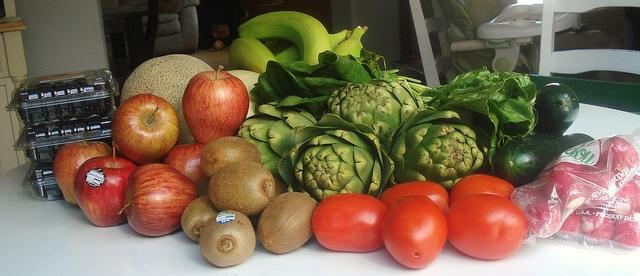apple: (118, 164, 198, 236), (73, 141, 138, 228), (182, 65, 250, 145), (111, 94, 180, 164), (52, 130, 112, 206), (160, 136, 210, 197)
banana: (238, 11, 332, 66), (274, 30, 352, 64), (229, 36, 278, 74), (332, 26, 368, 61)
kiwi: (208, 160, 275, 218), (257, 192, 317, 254), (198, 209, 256, 268), (200, 135, 262, 180), (181, 194, 221, 242)
tomato: (446, 192, 530, 260), (381, 194, 448, 269), (311, 194, 388, 253), (378, 180, 451, 218), (450, 174, 516, 206), (580, 212, 615, 244)
